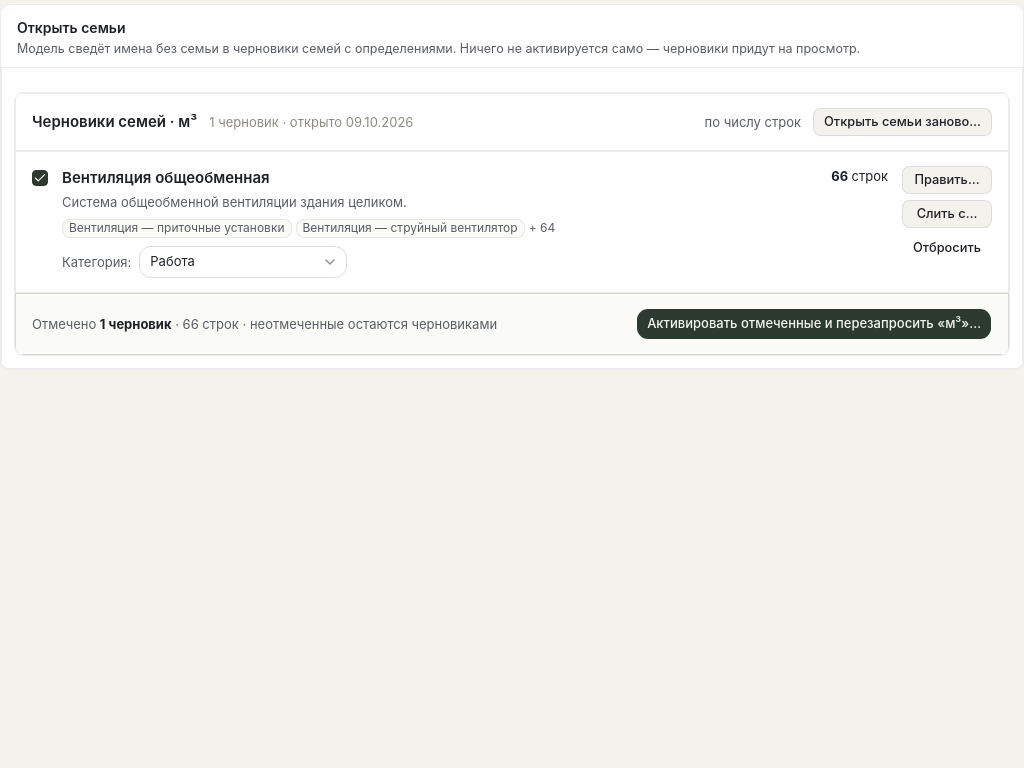
Scenario: DiscoveryBlock — черновики и перезапрос › окно перезапроса берёт единицу из ответа сервера
Click the button "Активировать отмеченные и перезапросить «м³»…". click: (814, 324)
box: left=636, top=308, right=992, bottom=340
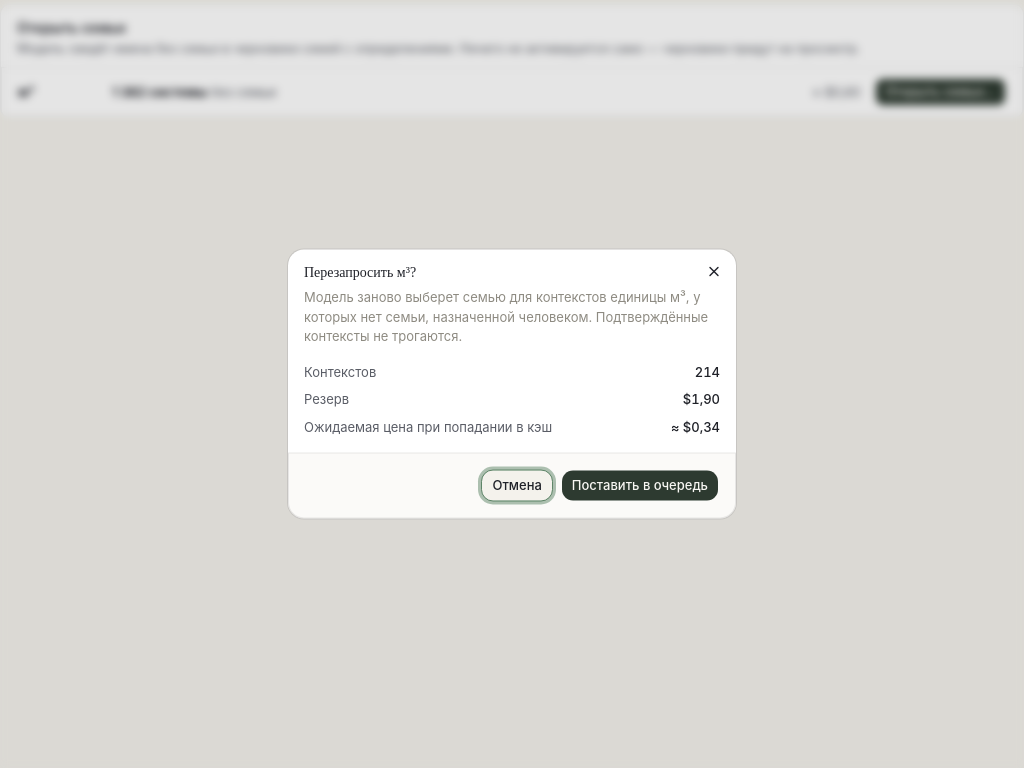
Expected: the dialog is shown, left=288, top=250, right=736, bottom=518
